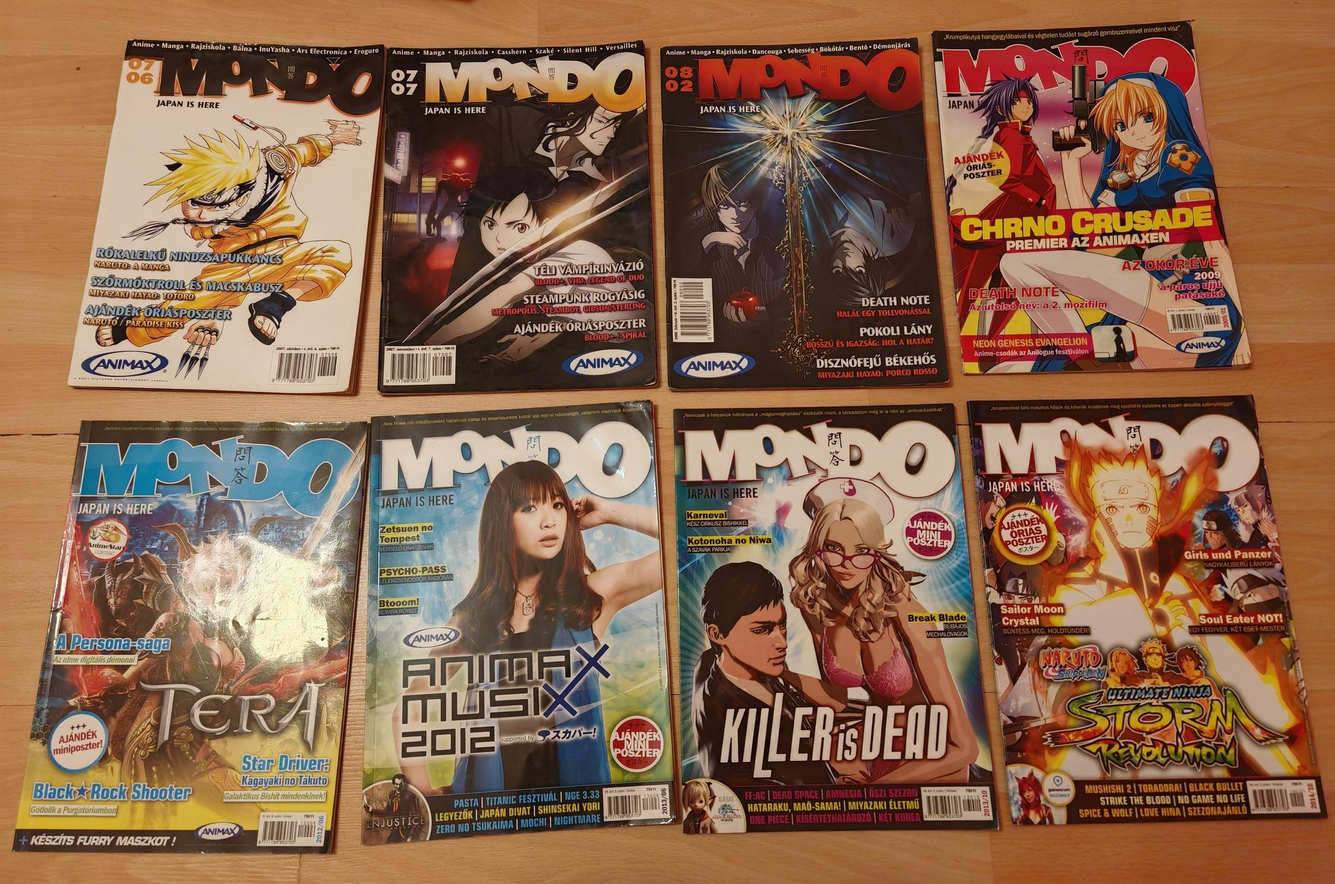comic: (14, 393, 374, 880), (965, 370, 1325, 848), (336, 401, 679, 845), (672, 404, 998, 834), (68, 22, 387, 410), (934, 14, 1250, 383), (658, 38, 948, 393), (369, 41, 658, 395)
